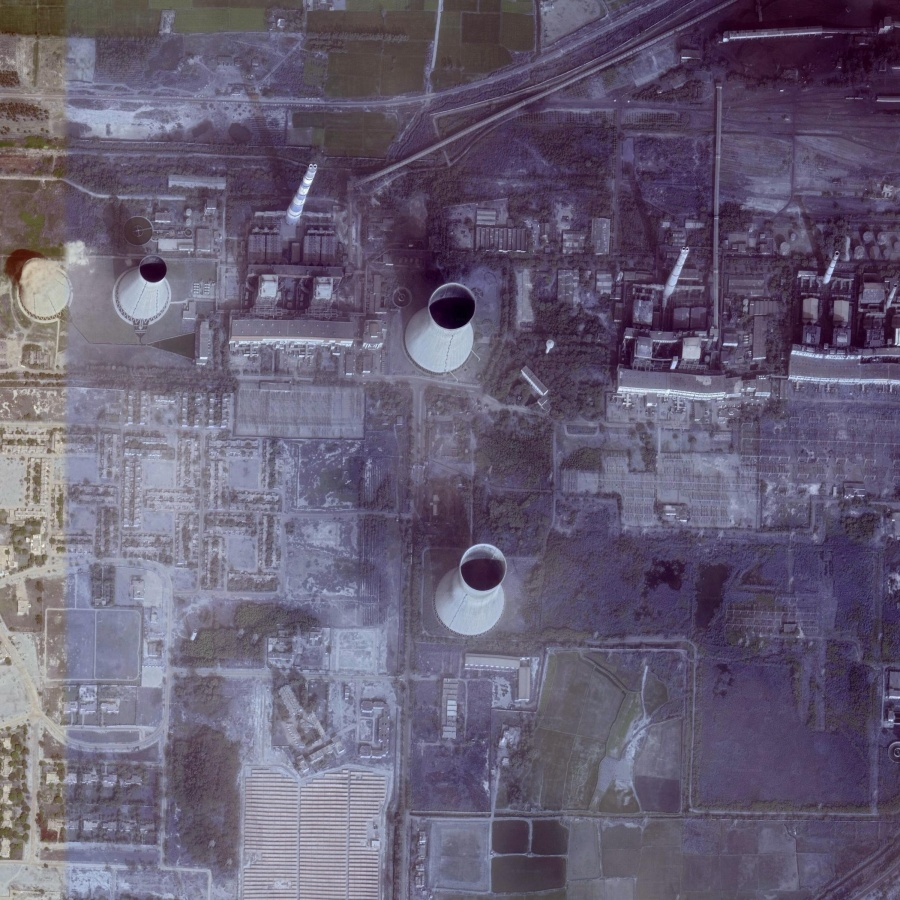PowerPlant: (8, 86, 484, 382), (415, 531, 659, 805)
